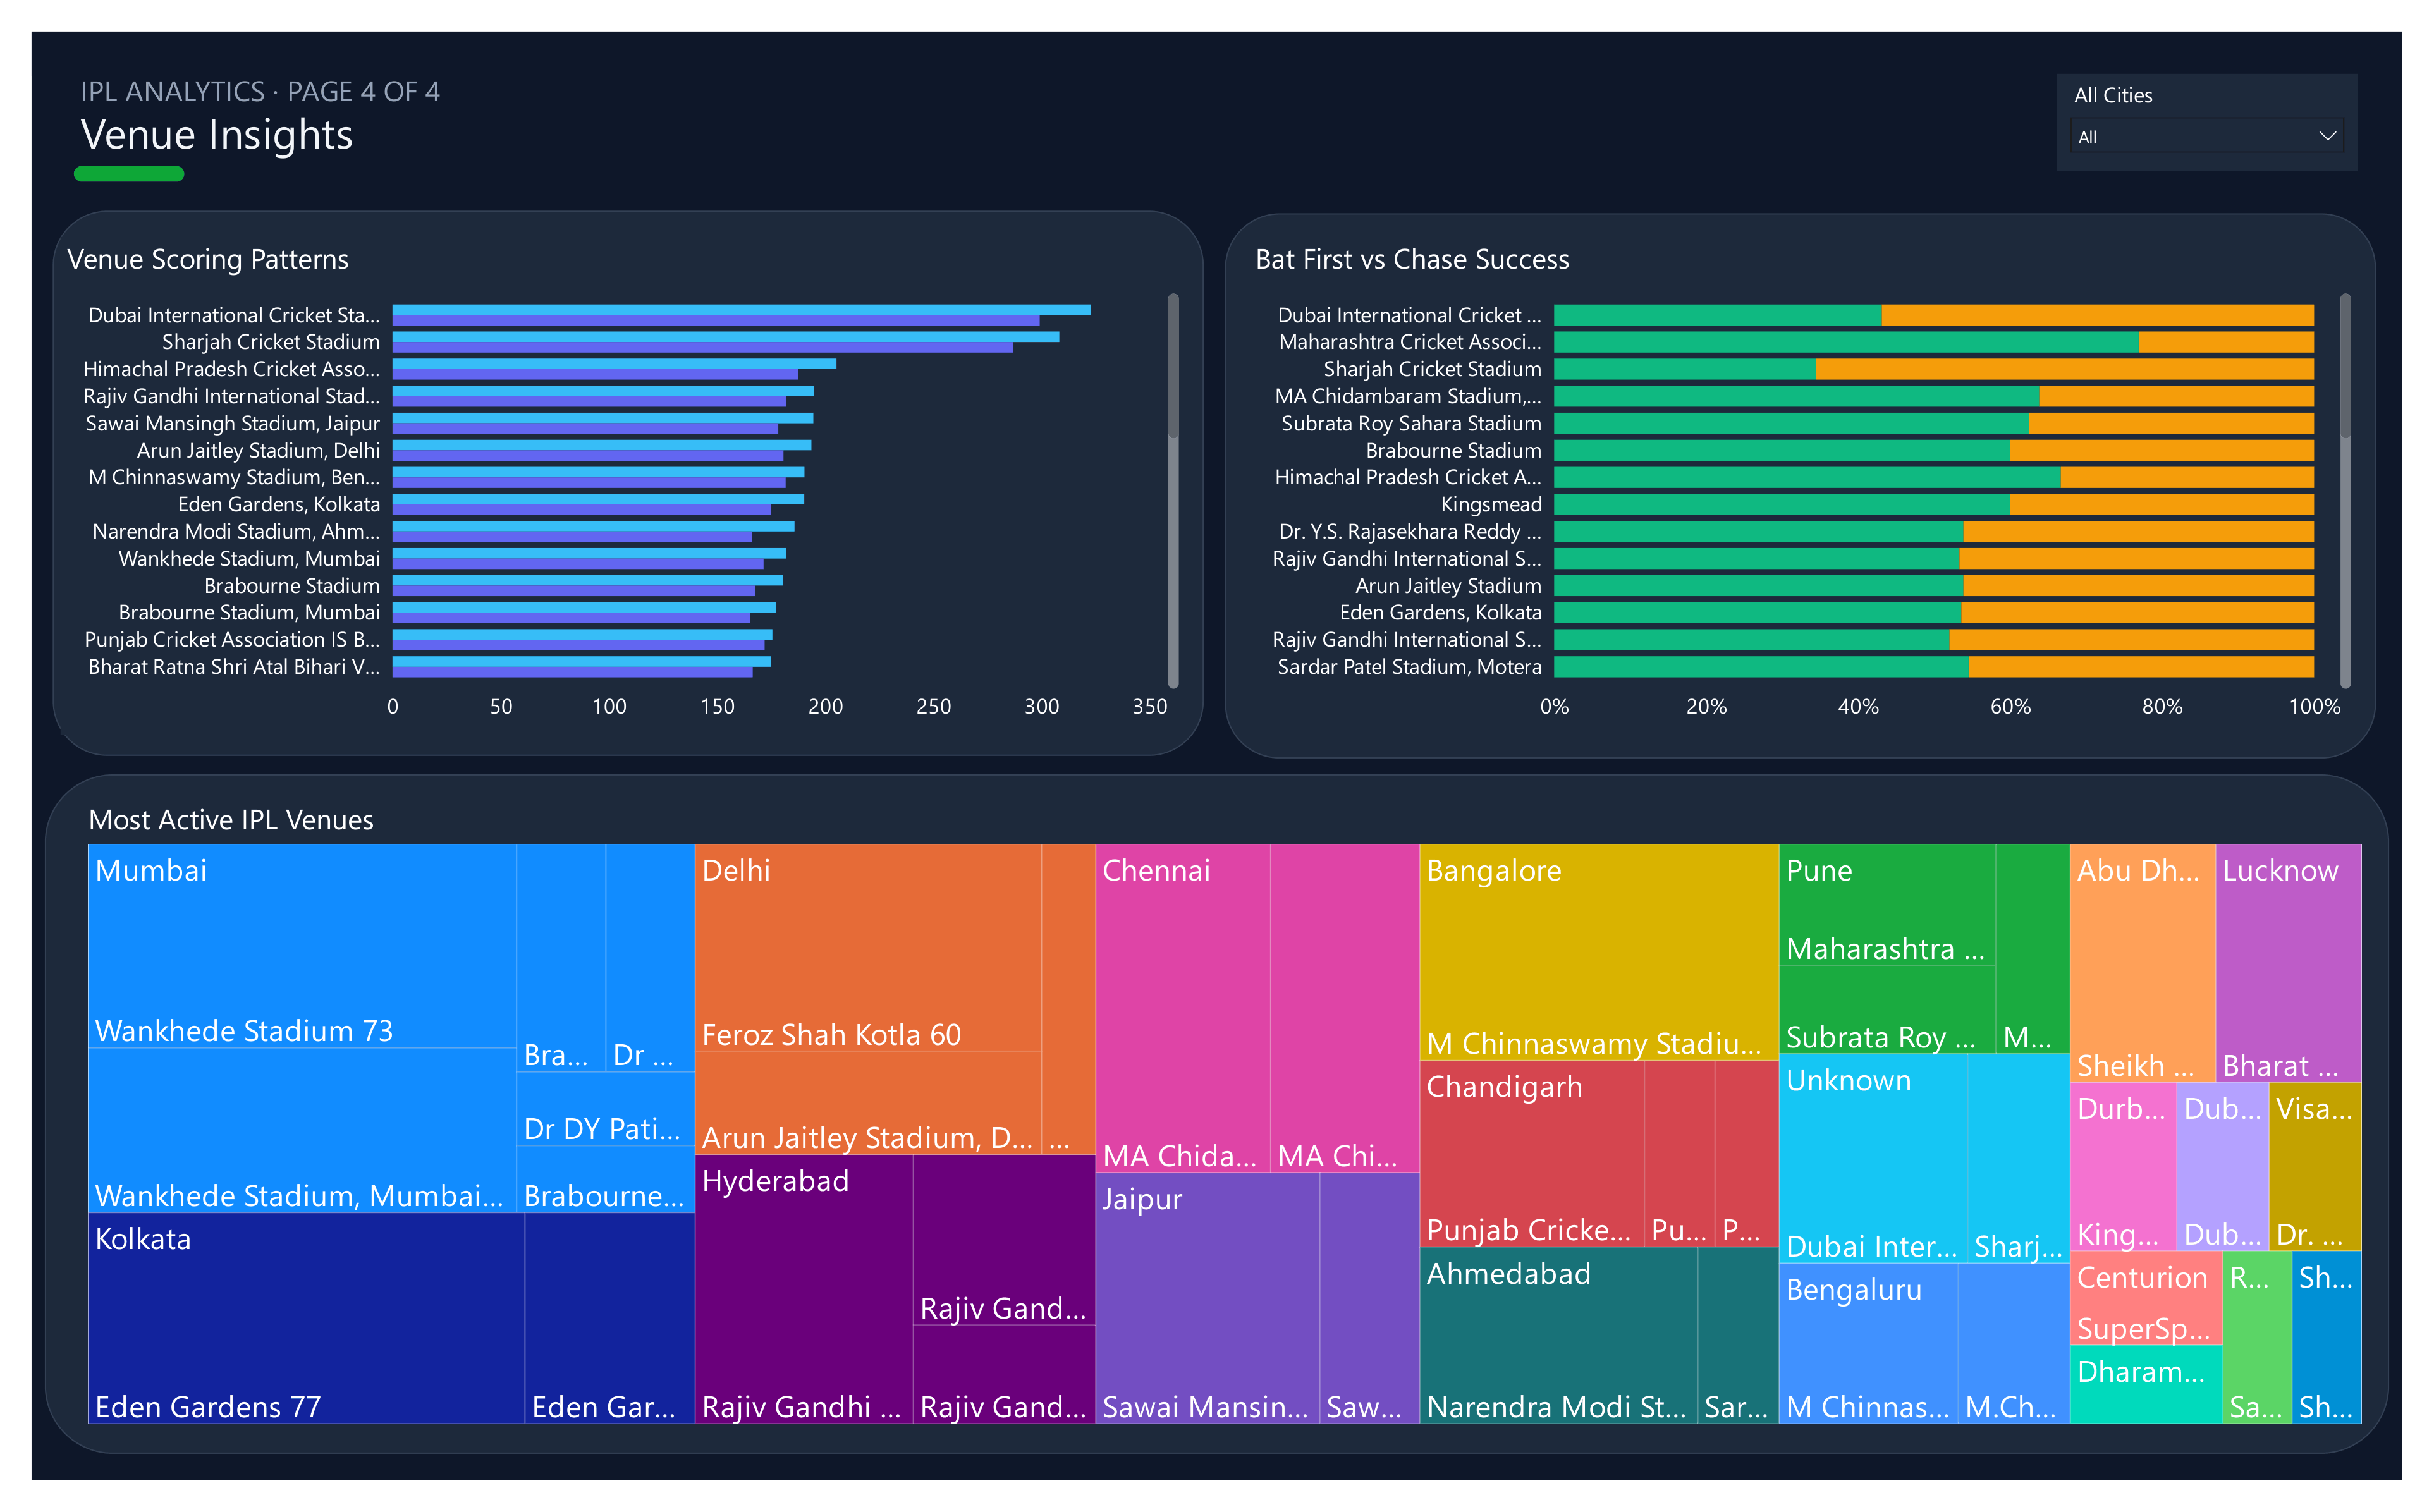

This screenshot's page, from the dashboard's own definition file:
{"tool":"powerbi","page":{"name":" Venue Insights","canvas":[1800,1100],"ordinal":3},"visuals":[{"type":"textbox","box":[32,24,304,46],"z":0},{"type":"textbox","box":[31.8,48.5,517.9,59.1],"z":1000},{"type":"shape","box":[32,102,84,12],"z":2000},{"type":"slicer","fields":{"Values":["vw_venue_insights.city"]},"box":[1538,32,228,74],"z":3000},{"type":"shape","box":[16,136,874,414],"z":4000},{"type":"clusteredBarChart","title":"Venue Scoring Patterns","fields":{"Category":["vw_venue_insights.venue"],"Y":["Sum(vw_venue_insights.avg_1st_innings_score)","Sum(vw_venue_insights.avg_2nd_innings_score)"]},"box":[22,156,854,378],"z":5000},{"type":"shape","box":[10,564,1780,516],"z":6000},{"type":"treemap","title":"Most Active IPL Venues","fields":{"Details":["vw_venue_insights.venue"],"Values":["Sum(vw_venue_insights.total_matches)"],"Group":["vw_venue_insights.city"]},"box":[38,582,1736,480],"z":7000},{"type":"shape","box":[906,138,874,414],"z":8000},{"type":"hundredPercentStackedBarChart","title":"Bat First vs Chase Success","fields":{"Category":["vw_venue_insights.venue"],"Y":["Sum(vw_venue_insights.bat_first_win_pct)","Sum(vw_venue_insights.chase_win_pct)"]},"box":[924,156,842,378],"z":9000}]}

Visuals, with their boxes on the page's 1800x1100 design canvas (x1, y1, x2, y2). These are canvas units, not pixel positions in the 2434x1512 screenshot, which may show the page scaled, cropped or inside an application window:
textbox: <box>32,24,336,70</box>
textbox: <box>32,48,550,108</box>
shape: <box>32,102,116,114</box>
slicer - vw_venue_insights.city: <box>1538,32,1766,106</box>
shape: <box>16,136,890,550</box>
"Venue Scoring Patterns" clusteredBarChart: <box>22,156,876,534</box>
shape: <box>10,564,1790,1080</box>
"Most Active IPL Venues" treemap: <box>38,582,1774,1062</box>
shape: <box>906,138,1780,552</box>
"Bat First vs Chase Success" hundredPercentStackedBarChart: <box>924,156,1766,534</box>
